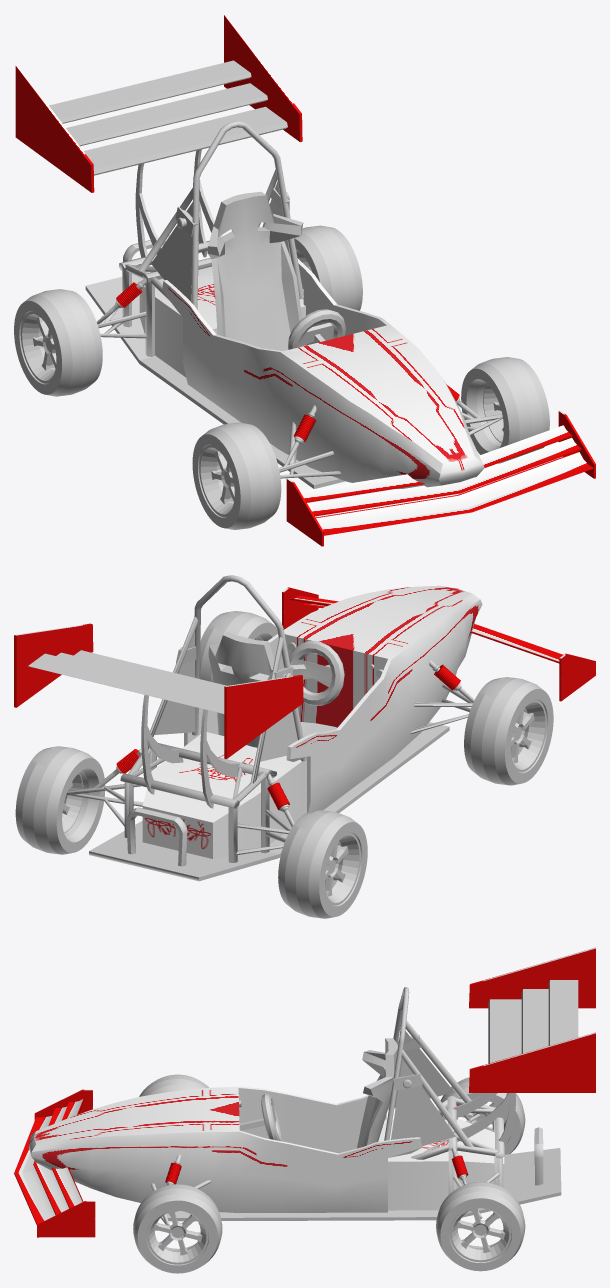
Rendered from formula-student-car (1).fbx.
The picture shows the model from 3 angles, top to bottom: view 1: azimuth 30°, elevation 25°; view 2: azimuth 150°, elevation 25°; view 3: azimuth 270°, elevation 25°; orthographic projection. The views are drawn at different scales.
Parts seen in each view (by area): view 1: Kabuk, On Ruzgarlik, arkaruzgarlıkorta, Koltuk, arkaruzgarlıkyan, sagarkalastik, sagonlastik, solonlastik, Demir, Alt Govde, solarkalastik, Motor (+8 smaller); view 2: Kabuk, Motor, Demir, arkaruzgarlıkyan, solarkalastik, sagarkalastik, sagonlastik, Alt Govde, arkaruzgarlıkorta, Koltuk, On Ruzgarlik, Ucgen Bayrak (+9 smaller); view 3: Kabuk, arkaruzgarlıkyan, On Ruzgarlik, arkaruzgarlıkorta, Motor, Alt Govde, Demir, solonlastik, solarkalastik, Ucgen Bayrak, Koltuk, solonjant (+8 smaller).
Part boxes in pixels (x1,y1,x2,y2): Kabuk: (162,258,484,488); On Ruzgarlik: (286,410,595,546); arkaruzgarlıkorta: (49,60,287,175); Koltuk: (207,191,304,350); arkaruzgarlıkyan: (15,14,302,192); sagarkalastik: (14,289,102,396); sagonlastik: (192,422,281,529); solonlastik: (461,357,549,463); Demir: (97,169,502,478); Alt Govde: (85,272,344,488); solarkalastik: (294,225,362,310); Motor: (139,266,305,377); Kabuk: (184,585,482,812); Motor: (142,732,306,858); Demir: (66,616,474,862); arkaruzgarlıkyan: (14,623,303,758); solarkalastik: (15,746,105,854); sagarkalastik: (278,810,367,918); sagonlastik: (464,677,553,785); Alt Govde: (89,722,449,881); arkaruzgarlıkorta: (28,650,226,713); Koltuk: (208,631,337,747); On Ruzgarlik: (282,587,595,701); Ucgen Bayrak: (154,631,297,761); Kabuk: (29,1086,422,1212); arkaruzgarlıkyan: (469,947,595,1092); On Ruzgarlik: (14,1089,95,1237); arkaruzgarlıkorta: (488,980,578,1063); Motor: (378,1119,504,1210); Alt Govde: (166,1148,561,1221); Demir: (151,1020,504,1225); solonlastik: (133,1184,222,1273); solarkalastik: (436,1181,525,1271); Ucgen Bayrak: (391,1031,455,1146); Koltuk: (357,1038,397,1148); solonjant: (147,1208,208,1264).
Size of the model in its own units: 527 by 439 by 1028.
